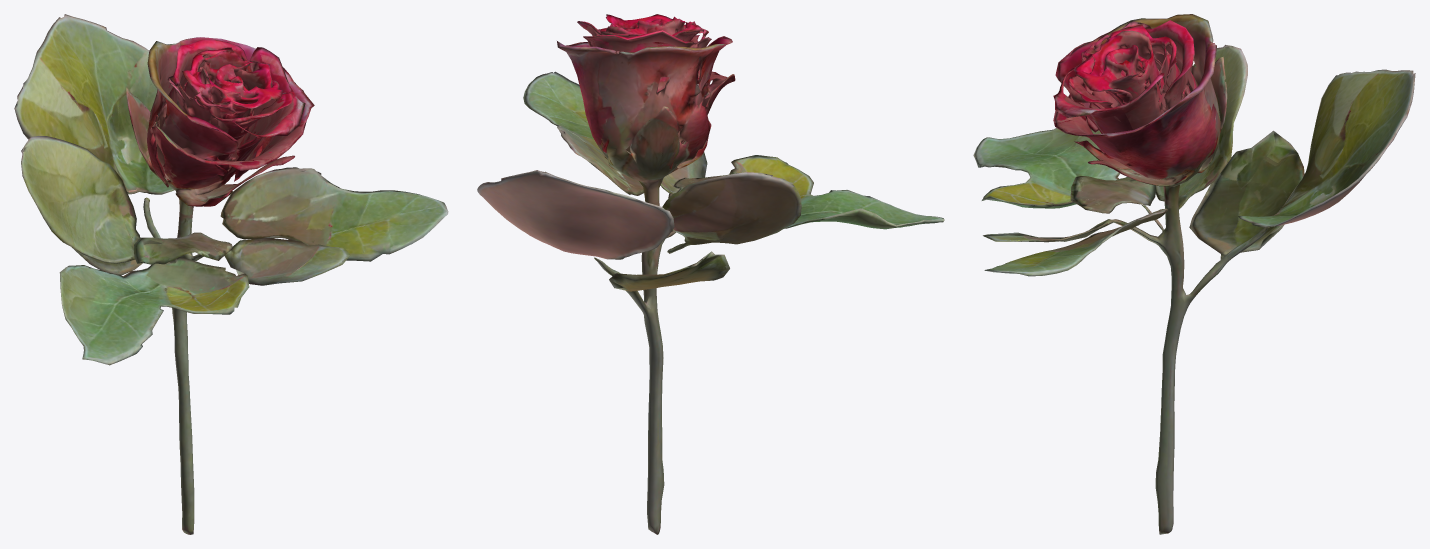
The picture shows the model from 3 angles, left to right: view 1: azimuth 30°, elevation 25°; view 2: azimuth 150°, elevation 25°; view 3: azimuth 270°, elevation 25°; orthographic projection. The views are drawn at different scales.
Size of the model in its own units: 1.62 by 1.99 by 1.57.
Materials: 1 (1 with a texture image).
